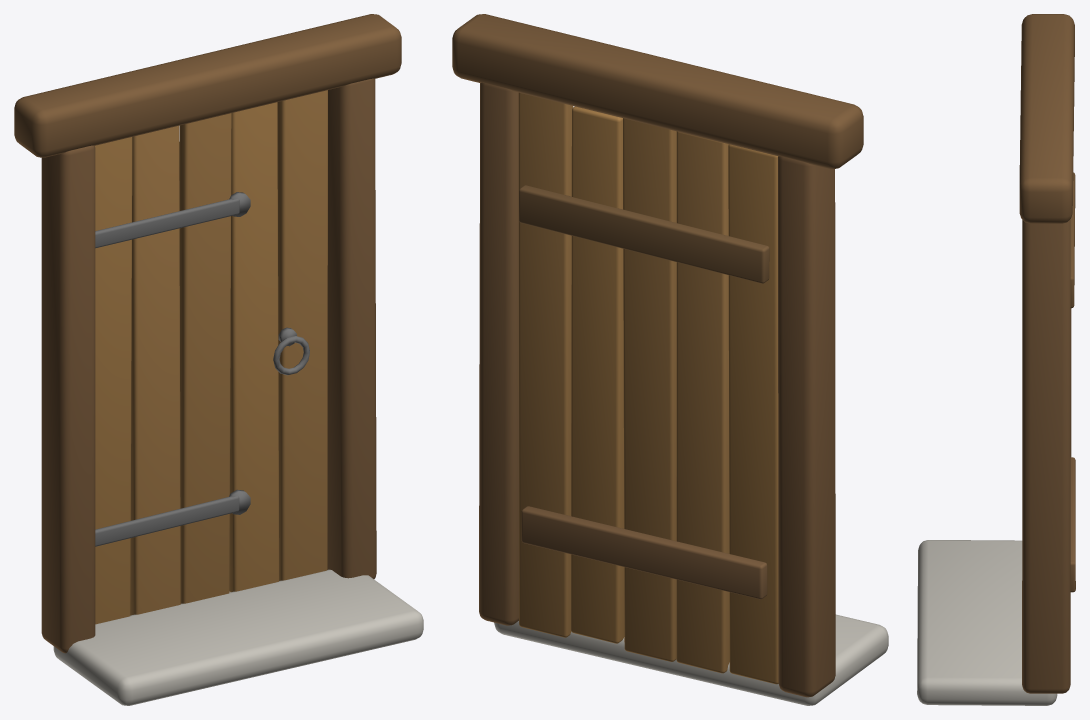
The model's file is tg_door.glb.
3 renders of one model, left to right at view 1: azimuth 30°, elevation 25°; view 2: azimuth 150°, elevation 25°; view 3: azimuth 270°, elevation 25°, orthographic. The views are drawn at different scales.
Parts seen in each view (by area): view 1: door_tg; view 2: door_tg; view 3: door_tg.
Part boxes in pixels (x1,y1,x2,y2): door_tg: (14, 14, 423, 705); door_tg: (452, 14, 888, 705); door_tg: (917, 14, 1075, 705).
Size of the model in its own units: 1.68 by 2.47 by 0.6563.
